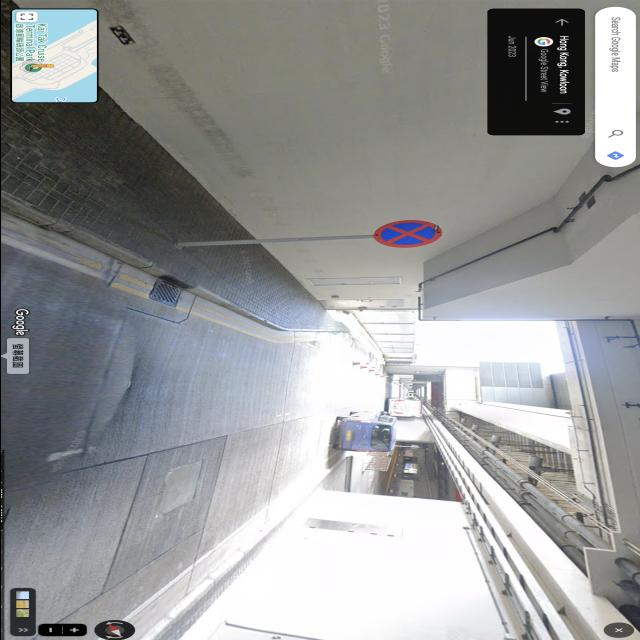Order-Sign: (372, 220, 444, 248)
